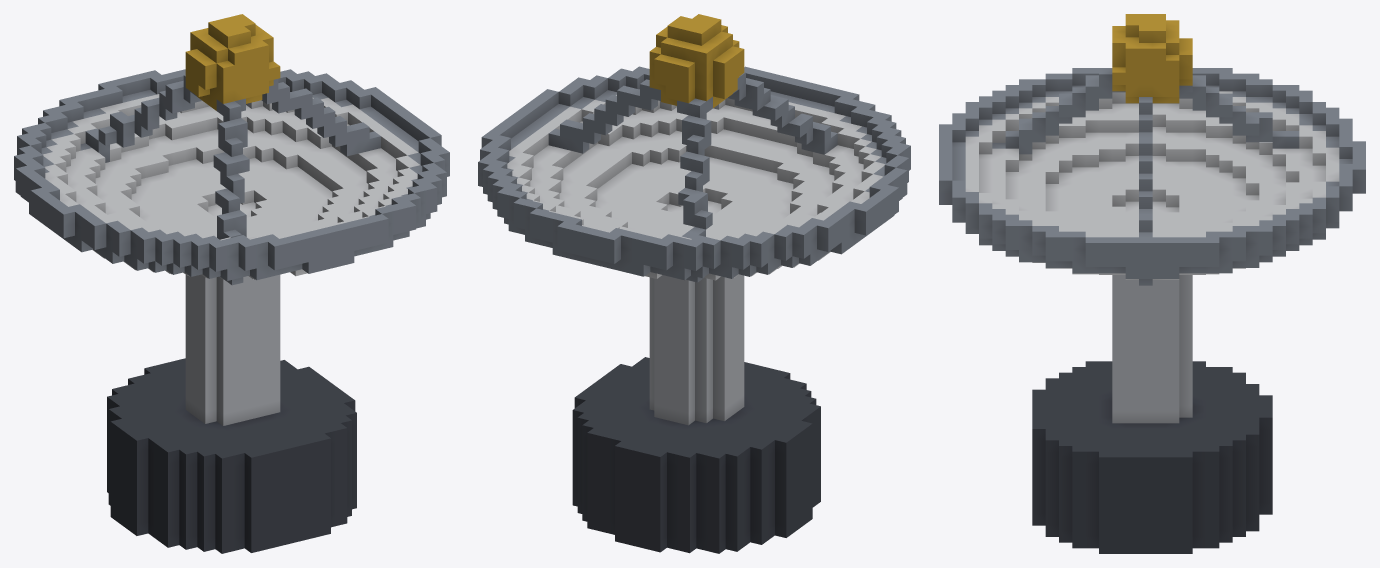
The model's file is antenna_mga.glb.
The picture shows the model from 3 angles, left to right: view 1: azimuth 30°, elevation 25°; view 2: azimuth 150°, elevation 25°; view 3: azimuth 270°, elevation 25°; orthographic projection.
Visible parts, largest first — view 1: antenna_mga; view 2: antenna_mga; view 3: antenna_mga.
Part boxes in pixels (x1,y1,x2,y2): antenna_mga: [14, 14, 449, 553]; antenna_mga: [478, 14, 910, 553]; antenna_mga: [939, 14, 1365, 553].
Size of the model in its own units: 0.5 by 0.625 by 0.5.
